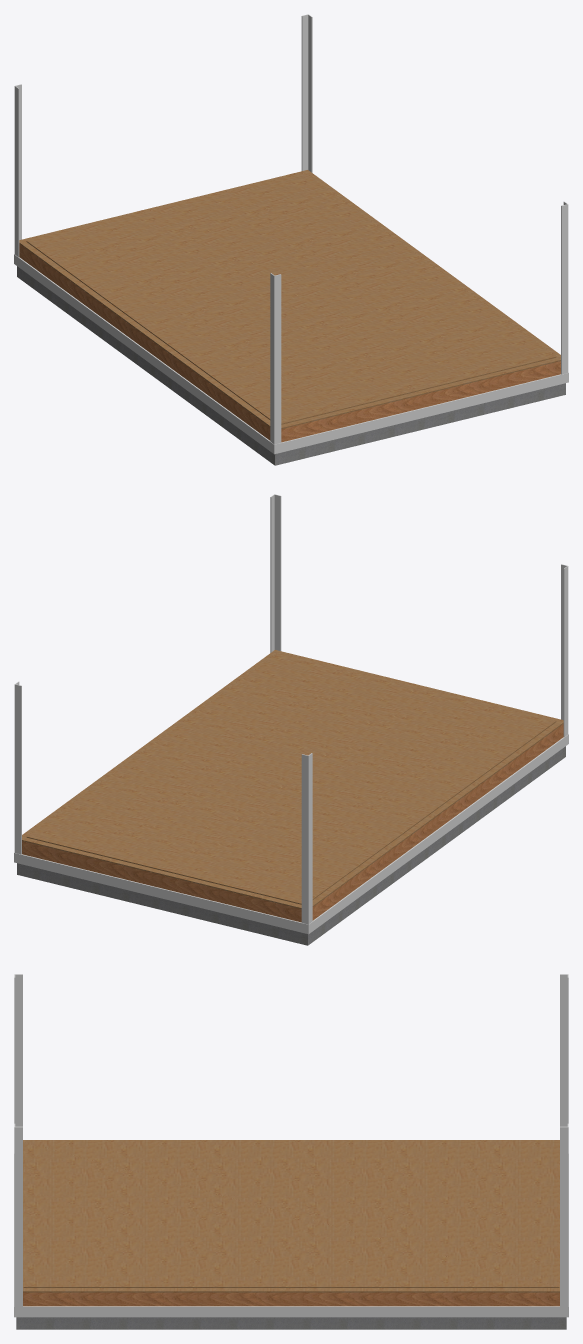
Rendered from 2storey_16x24_GFBlock.glb.
The picture shows the model from 3 angles, top to bottom: view 1: azimuth 30°, elevation 25°; view 2: azimuth 150°, elevation 25°; view 3: azimuth 270°, elevation 25°; orthographic projection. The views are drawn at different scales.
Visible parts, largest first — view 1: GF_floorfinish, trims, GF_framing, concrete_foundation; view 2: GF_floorfinish, trims, GF_framing, concrete_foundation; view 3: GF_floorfinish, trims, GF_framing, concrete_foundation.
Boxes of the visible parts, x1,y1,x2,y2 form: GF_floorfinish: [19, 170, 560, 429]; trims: [14, 14, 568, 454]; GF_framing: [19, 244, 560, 442]; concrete_foundation: [17, 266, 565, 465]; GF_floorfinish: [22, 650, 563, 909]; trims: [14, 494, 568, 934]; GF_framing: [22, 724, 563, 922]; concrete_foundation: [17, 746, 565, 945]; GF_floorfinish: [23, 1140, 559, 1292]; trims: [14, 974, 568, 1317]; GF_framing: [23, 1292, 559, 1306]; concrete_foundation: [16, 1317, 566, 1329].
Size of the model in its own units: 4.94 by 3.05 by 7.56.
4 materials, 3 textured.
